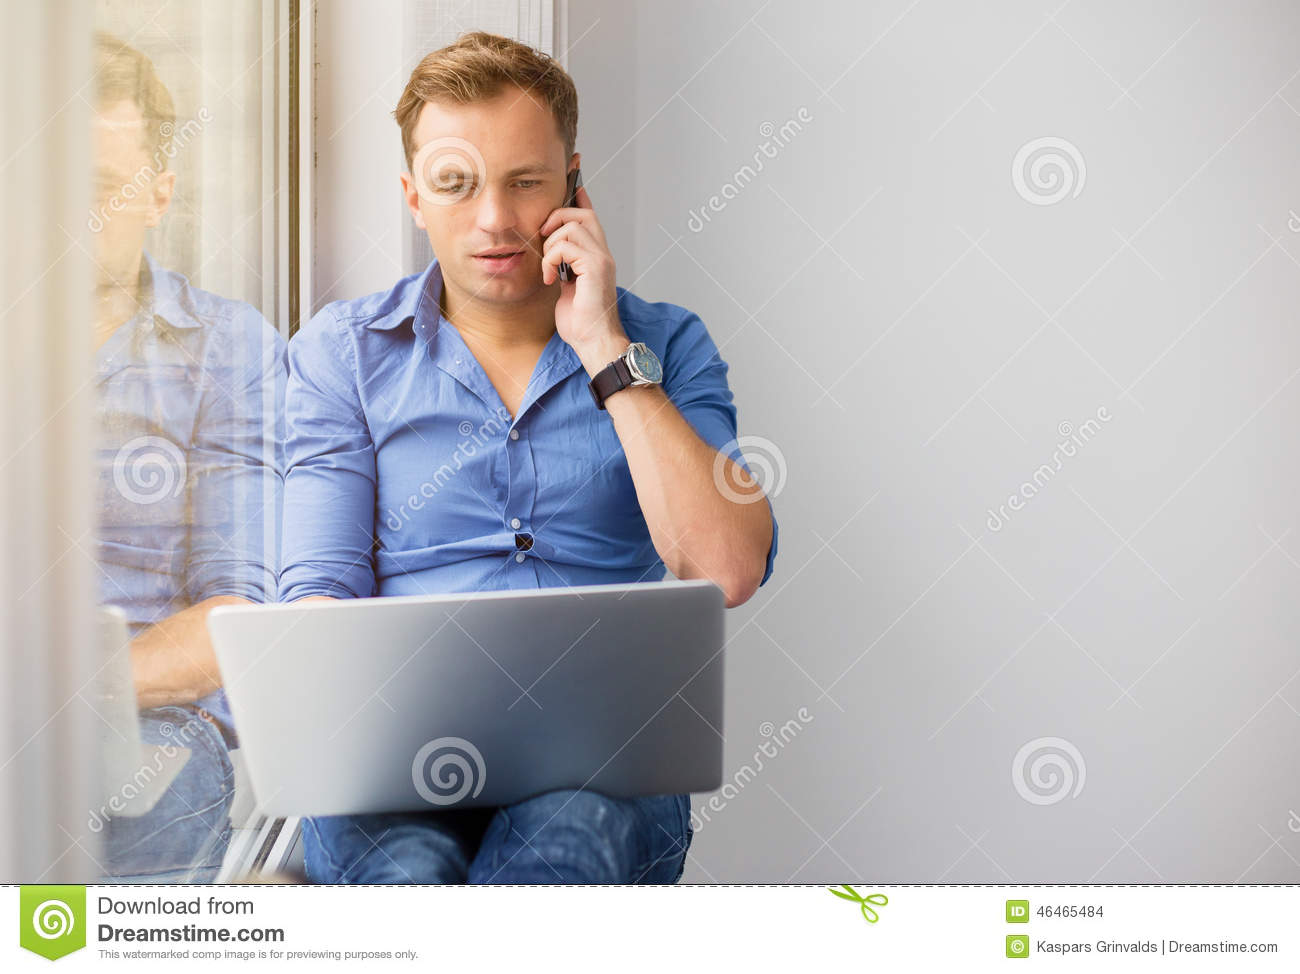phone: (556, 164, 585, 284)
talk: (430, 152, 615, 356)
